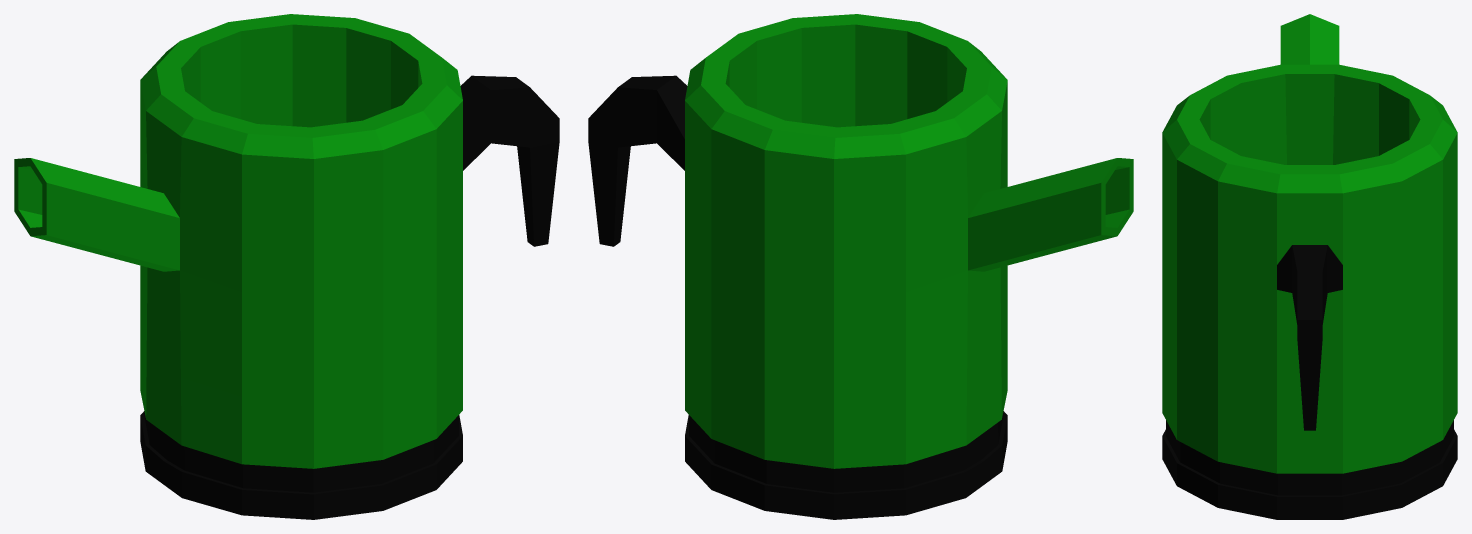
Rendered from WateringCan.fbx.
The picture shows the model from 3 angles, left to right: view 1: azimuth 30°, elevation 25°; view 2: azimuth 150°, elevation 25°; view 3: azimuth 270°, elevation 25°; orthographic projection. The views are drawn at different scales.
Visible parts, largest first — view 1: WateringCan; view 2: WateringCan; view 3: WateringCan.
Boxes of the visible parts, <box> form: WateringCan: <box>14,14,559,519</box>; WateringCan: <box>588,14,1133,519</box>; WateringCan: <box>1162,14,1457,519</box>.
Size of the model in its own units: 1.28 by 0.6927 by 0.8783.
